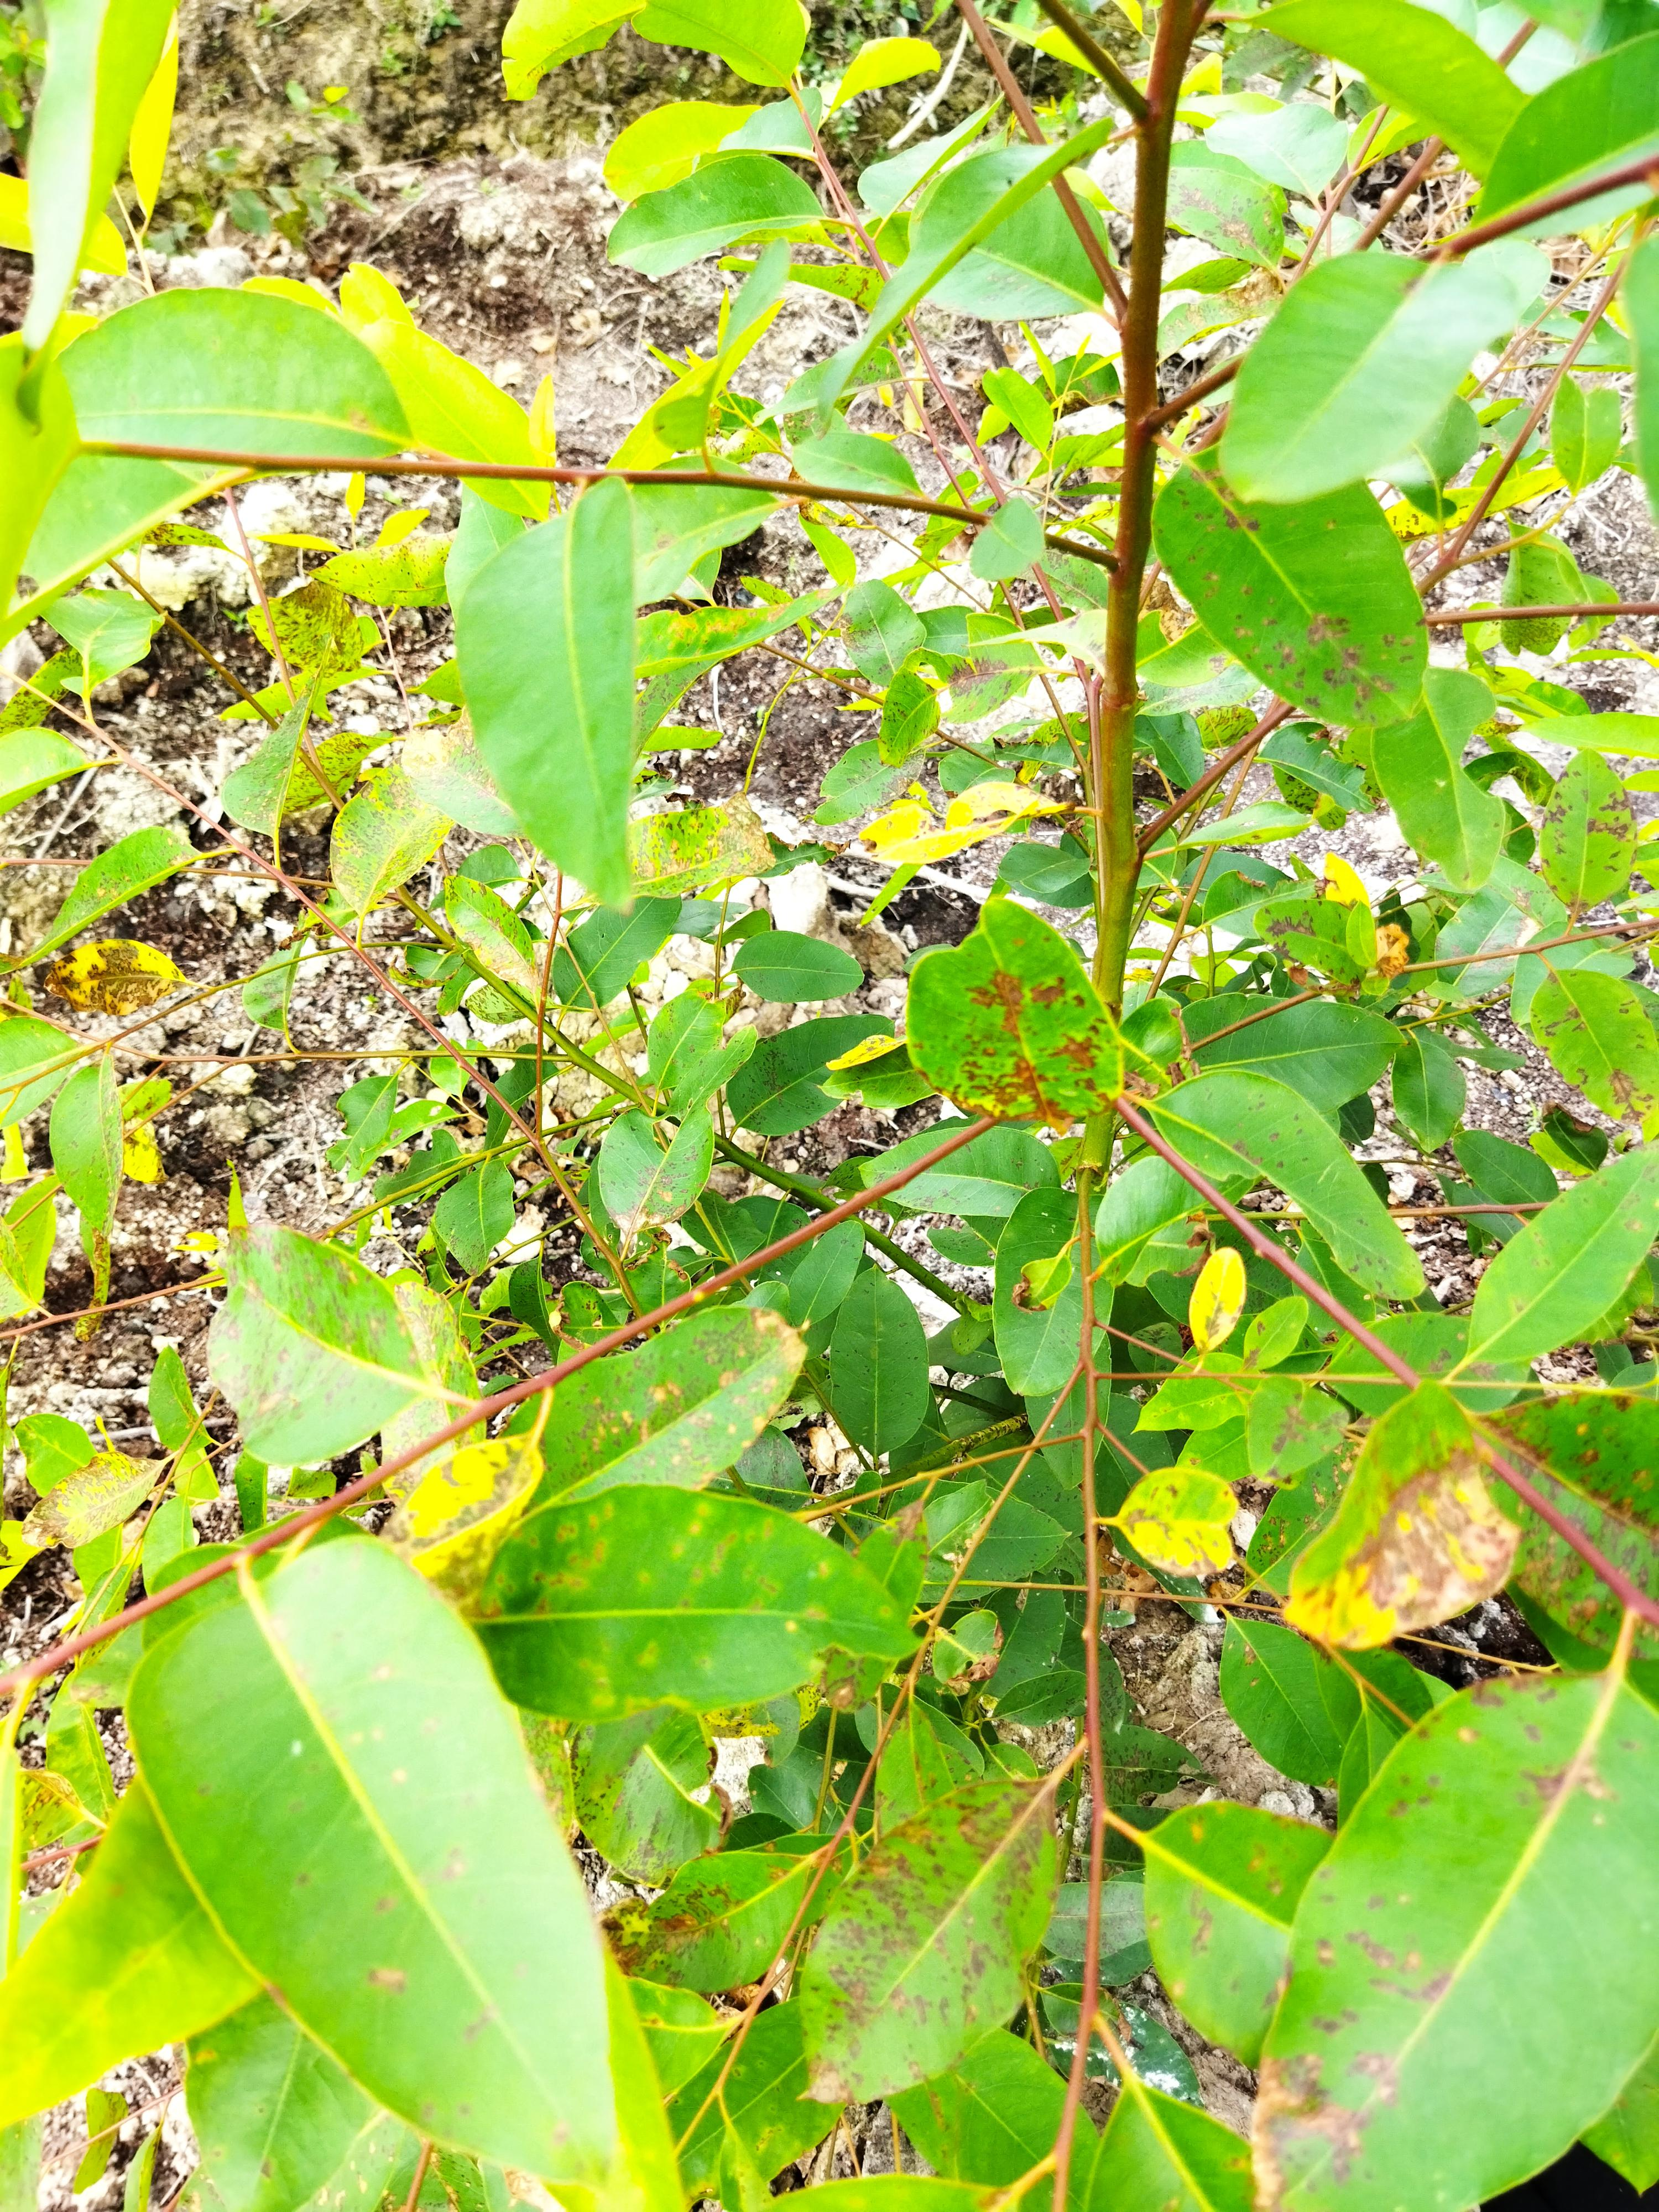Xanthomonas: (798, 1787, 1068, 2142), (1246, 1871, 1474, 2212), (918, 968, 1147, 1132), (1312, 1472, 1553, 1615)
